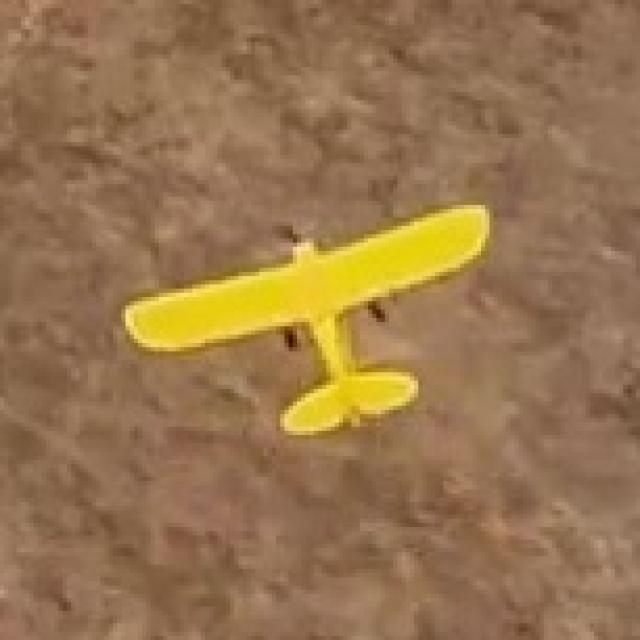iha: (130, 171, 514, 472)
